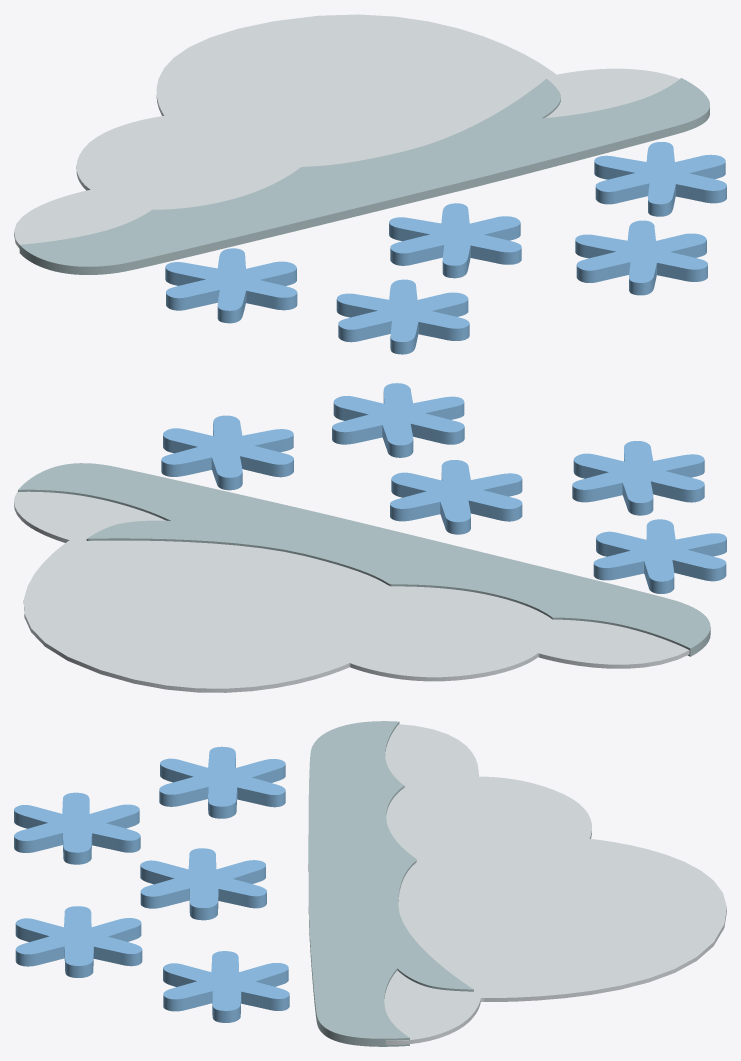
File: emoji_u1f328.glb
3 renders of one model, top to bottom at view 1: azimuth 30°, elevation 25°; view 2: azimuth 150°, elevation 25°; view 3: azimuth 270°, elevation 25°, orthographic. The views are drawn at different scales.
Parts seen in each view (by area): view 1: emoji_u1f328; view 2: emoji_u1f328; view 3: emoji_u1f328.
Boxes of the visible parts, left/top/right/bottom form: emoji_u1f328: left=14, top=14, right=726, bottom=354; emoji_u1f328: left=14, top=383, right=726, bottom=692; emoji_u1f328: left=14, top=721, right=726, bottom=1046.
Size of the model in its own units: 0.0338 by 0.0006 by 0.0321.
